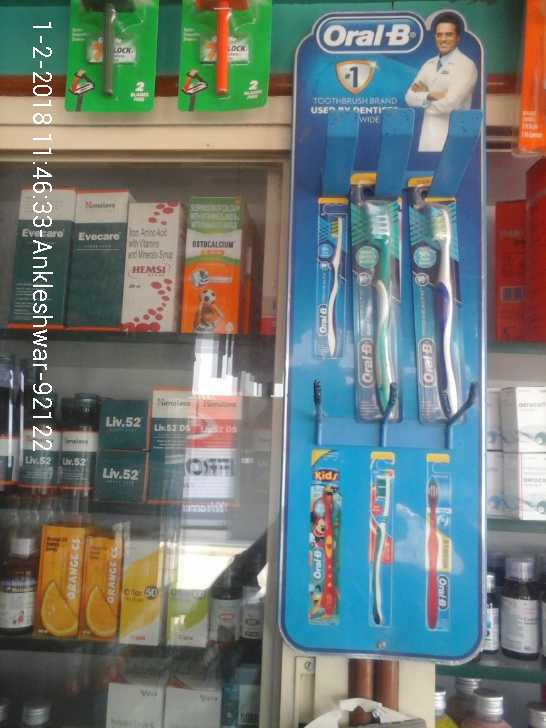oralb: (413, 201, 472, 420), (357, 207, 402, 424)
